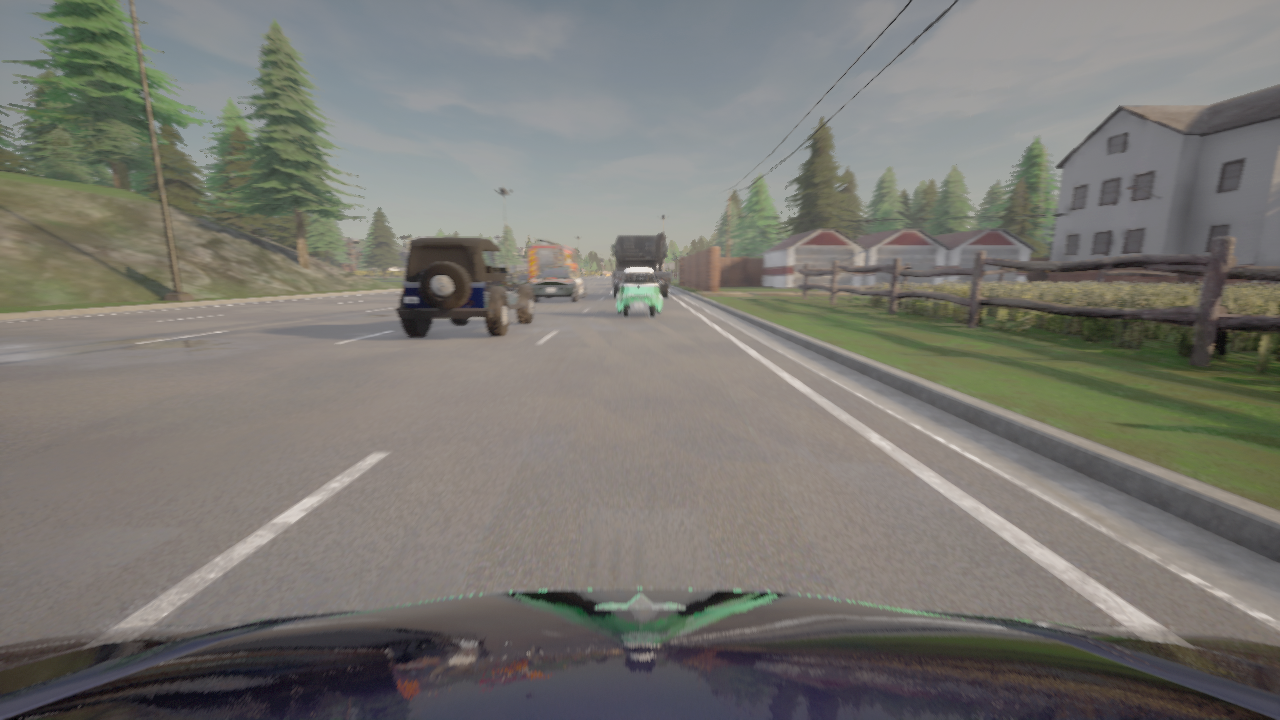cyclist: (0, 588, 1279, 719), (396, 236, 533, 335), (611, 233, 669, 297), (615, 268, 663, 317), (528, 238, 580, 279), (528, 266, 586, 302), (515, 270, 528, 283)
